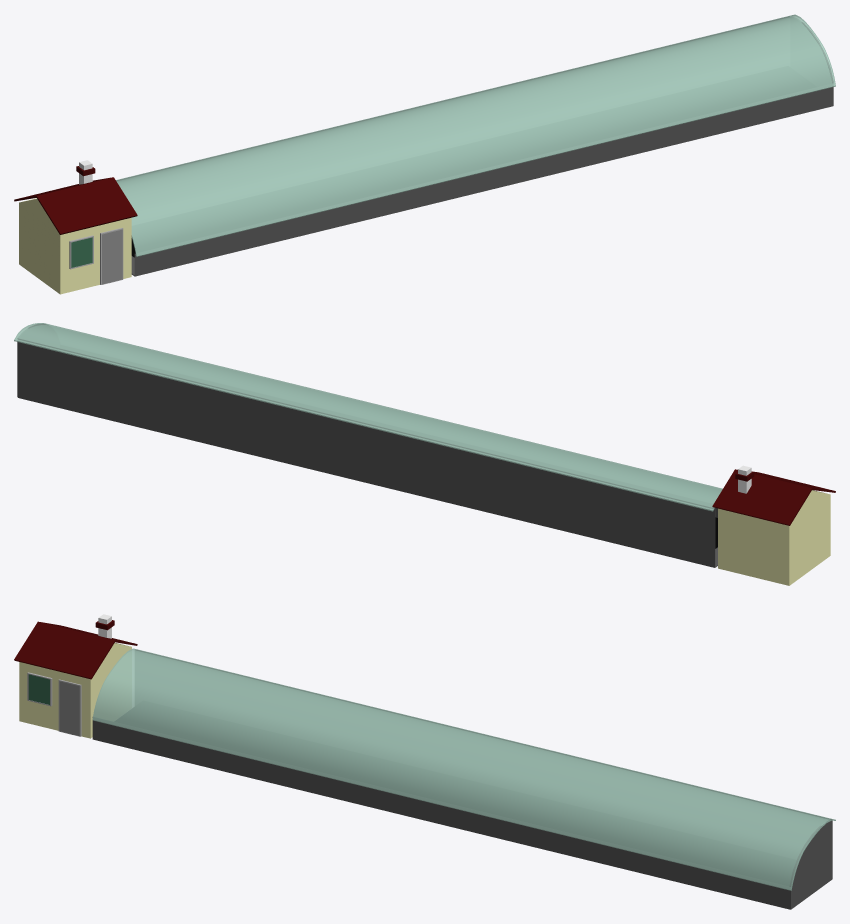
3 views of the same model, one above another, from view 1: azimuth 30°, elevation 25°; view 2: azimuth 150°, elevation 25°; view 3: azimuth 330°, elevation 25° (orthographic).
Parts seen in each view (by area): view 1: FP02; view 2: FP02; view 3: FP02.
Part boxes in pixels (x1,y1,x2,y2): FP02: (14, 14, 835, 294); FP02: (14, 323, 835, 585); FP02: (14, 614, 835, 909).
Bounding box in the file's own units: 22240 × 2624 × 2310.
